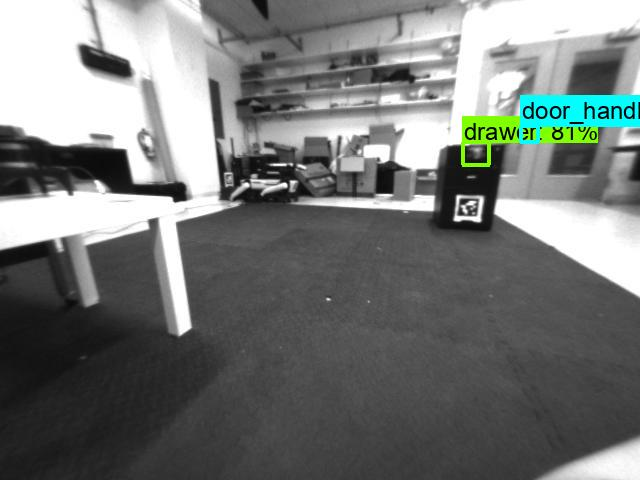door_handle: (520, 125, 539, 144)
drawer: (461, 142, 490, 166)
